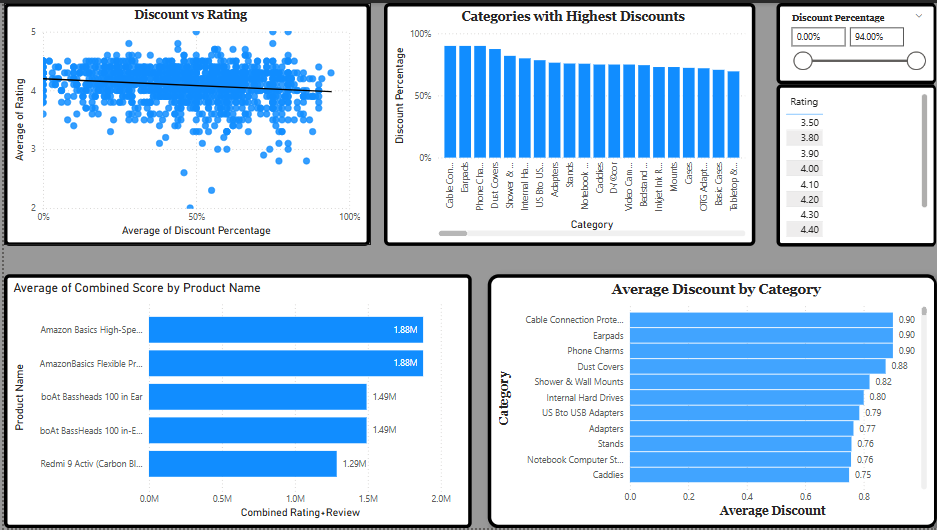

What the dashboard file says about the page in this screenshot:
{"tool":"powerbi","page":{"name":"Page 3","canvas":[1280,720],"ordinal":2},"visuals":[{"type":"scatterChart","title":"Discount vs Rating","fields":{"Category":["amazon (3).Product Name Long"],"X":["Avg(amazon (3).Discount Percentage)"],"Y":["Avg(amazon (3).Rating)"]},"box":[0,0,501.4,332.9],"z":2000},{"type":"clusteredColumnChart","title":"Categories with Highest Discounts","fields":{"Category":["amazon (3).Category"],"Y":["Avg(amazon (3).Discount Percentage)"]},"box":[520,0,508.6,332.9],"z":3000},{"type":"clusteredBarChart","fields":{"Category":["amazon (3).Product Name"],"Y":["Avg(amazon (3).Combined Score)"]},"box":[0,372.2,640.7,348.1],"z":4000},{"type":"slicer","fields":{"Values":["amazon (3).Discount Percentage"]},"box":[1059.3,0,220.4,111.1],"z":5000},{"type":"clusteredBarChart","fields":{"Category":["amazon (3).Category"],"Y":["amazon (3).Average Discount"]},"box":[663,372.2,616.7,348.1],"z":5001},{"type":"tableEx","fields":{"Values":["amazon (3).Rating"]},"box":[1059.3,111.1,220.4,222.2],"z":5002}]}

Visuals, with their boxes in screenshot pixels (x1, y1, x2, y2), scaled from the page's 1280x720 canvas onto the 937x530 screenshot:
"Discount vs Rating" scatterChart: box=[0, 0, 367, 245]
"Categories with Highest Discounts" clusteredColumnChart: box=[381, 0, 753, 245]
clusteredBarChart - amazon (3).Product Name x Avg(amazon (3).Combined Score): box=[0, 274, 469, 529]
slicer - amazon (3).Discount Percentage: box=[775, 0, 936, 82]
clusteredBarChart - amazon (3).Category x amazon (3).Average Discount: box=[485, 274, 936, 529]
tableEx - amazon (3).Rating: box=[775, 82, 936, 245]
